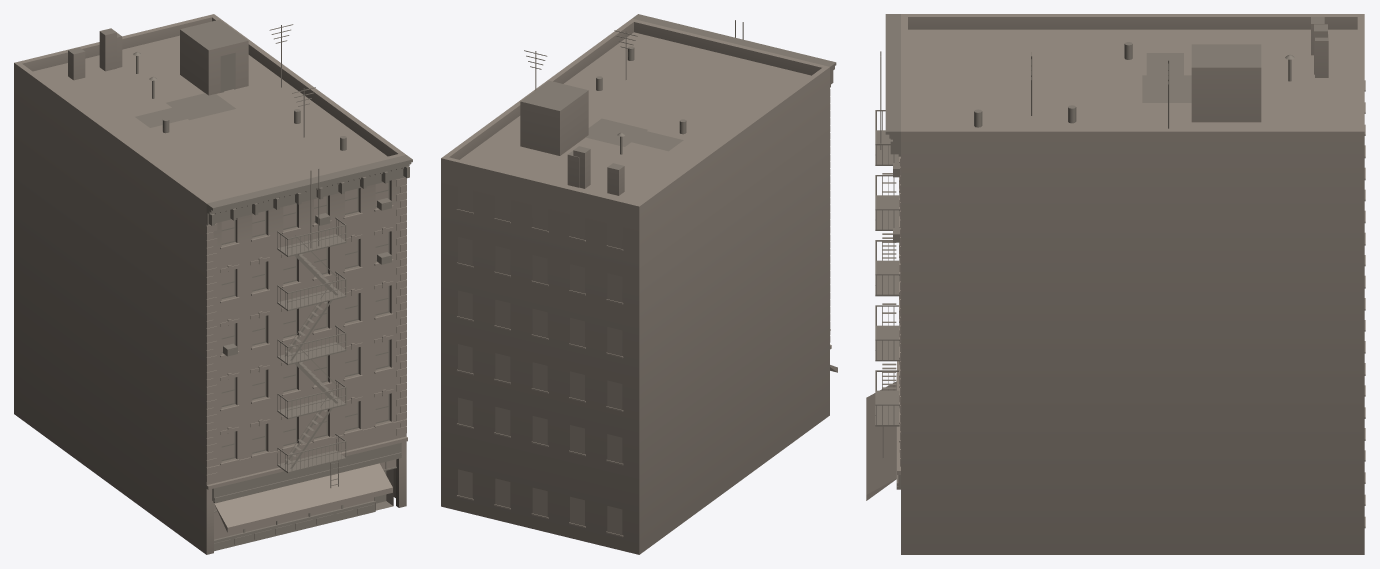
Rendered from corner_right_a.glb.
3 renders of one model, left to right at view 1: azimuth 30°, elevation 25°; view 2: azimuth 150°, elevation 25°; view 3: azimuth 270°, elevation 25°, orthographic. The views are drawn at different scales.
Parts seen in each view (by area): view 1: corner_right_a; view 2: corner_right_a; view 3: corner_right_a.
Part boxes in pixels (<box>): corner_right_a: <box>14,14,412,554</box>; corner_right_a: <box>441,14,837,554</box>; corner_right_a: <box>866,14,1365,554</box>.
Size of the model in its own units: 12 by 23.13 by 21.55.
